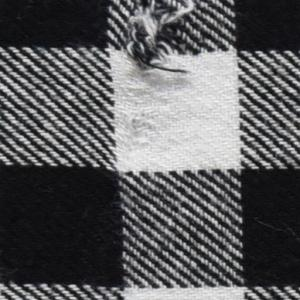Damage: (115, 1, 203, 84), (125, 107, 163, 147)
